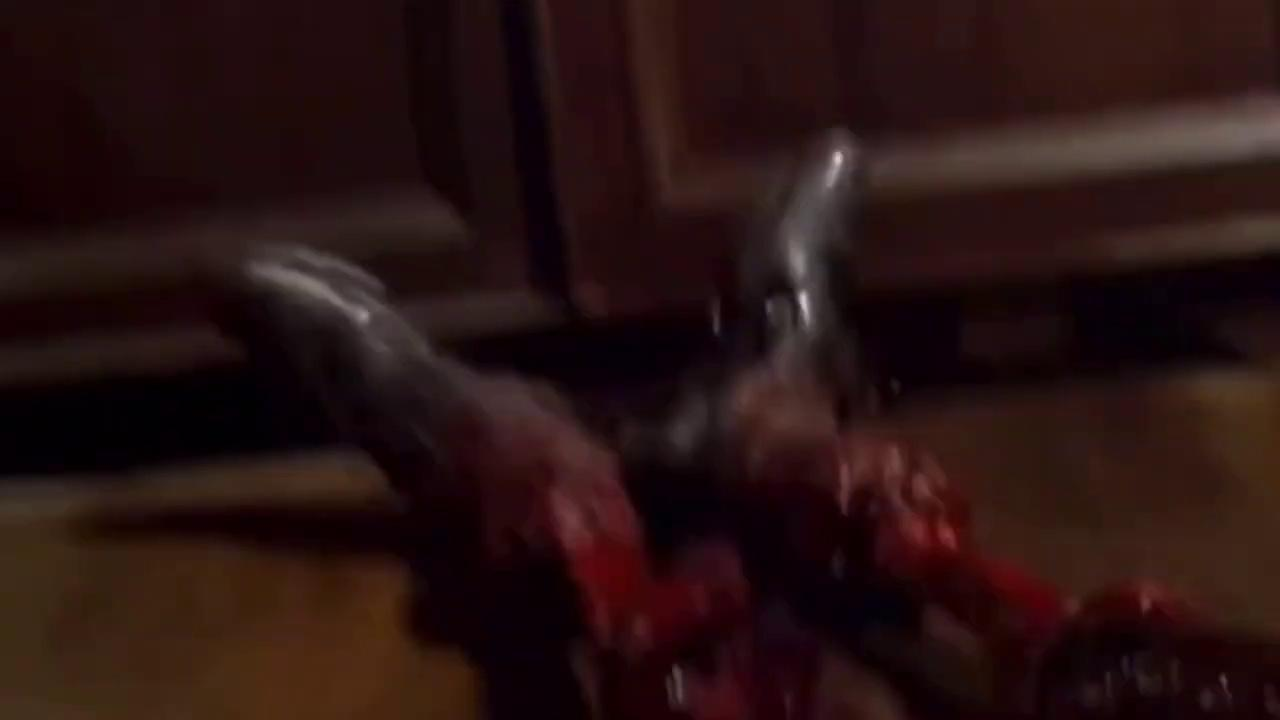Fire: (368, 354, 1280, 719)
